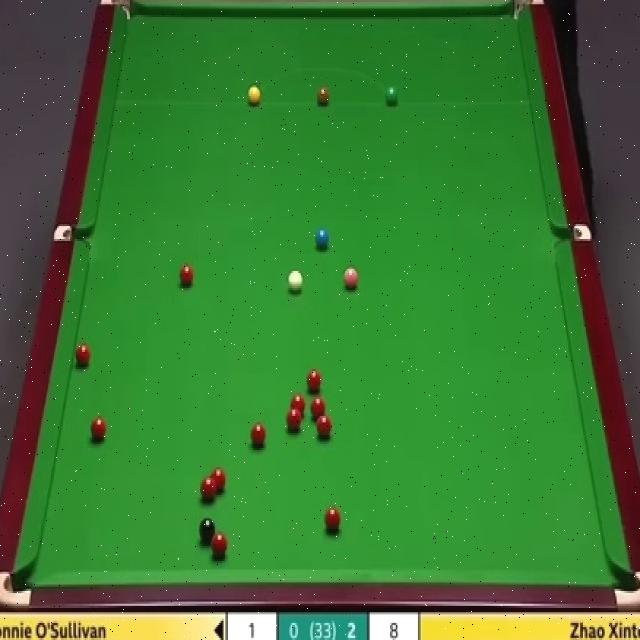black-ball: (200, 517, 216, 543)
blue-ball: (316, 228, 329, 251)
brown-ball: (316, 86, 330, 106)
green-ball: (383, 86, 398, 105)
pink-ball: (343, 269, 359, 292)
red-ball: (87, 414, 106, 441), (200, 475, 218, 501), (306, 367, 323, 394), (210, 532, 227, 558), (74, 342, 90, 368), (250, 420, 266, 446), (326, 507, 341, 534), (287, 409, 304, 432), (316, 412, 331, 438), (211, 467, 226, 492), (289, 393, 306, 415), (311, 396, 326, 419), (179, 266, 194, 286)
white-ball: (287, 268, 304, 295)
yellow-ball: (247, 86, 261, 106)
